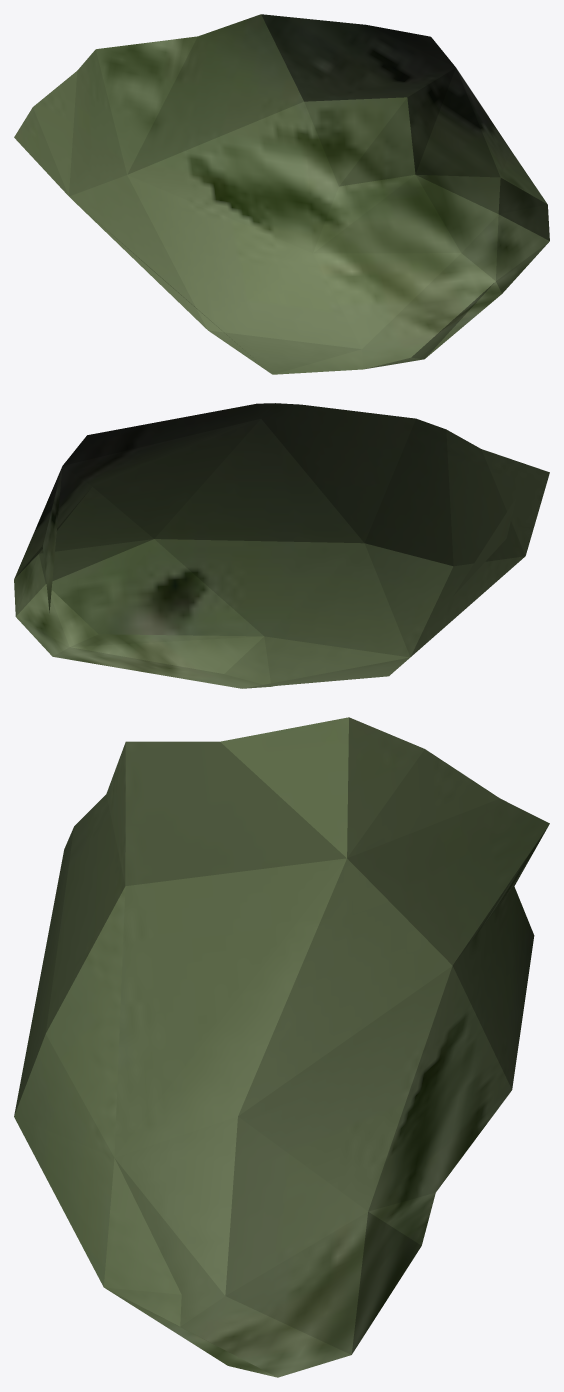
3 views of the same model, one above another, from view 1: azimuth 30°, elevation 25°; view 2: azimuth 150°, elevation 25°; view 3: azimuth 270°, elevation 25° (orthographic). The views are drawn at different scales.
Bounding box in the file's own units: 1.11 × 0.5559 × 0.7228.
1 material, 1 textured.
